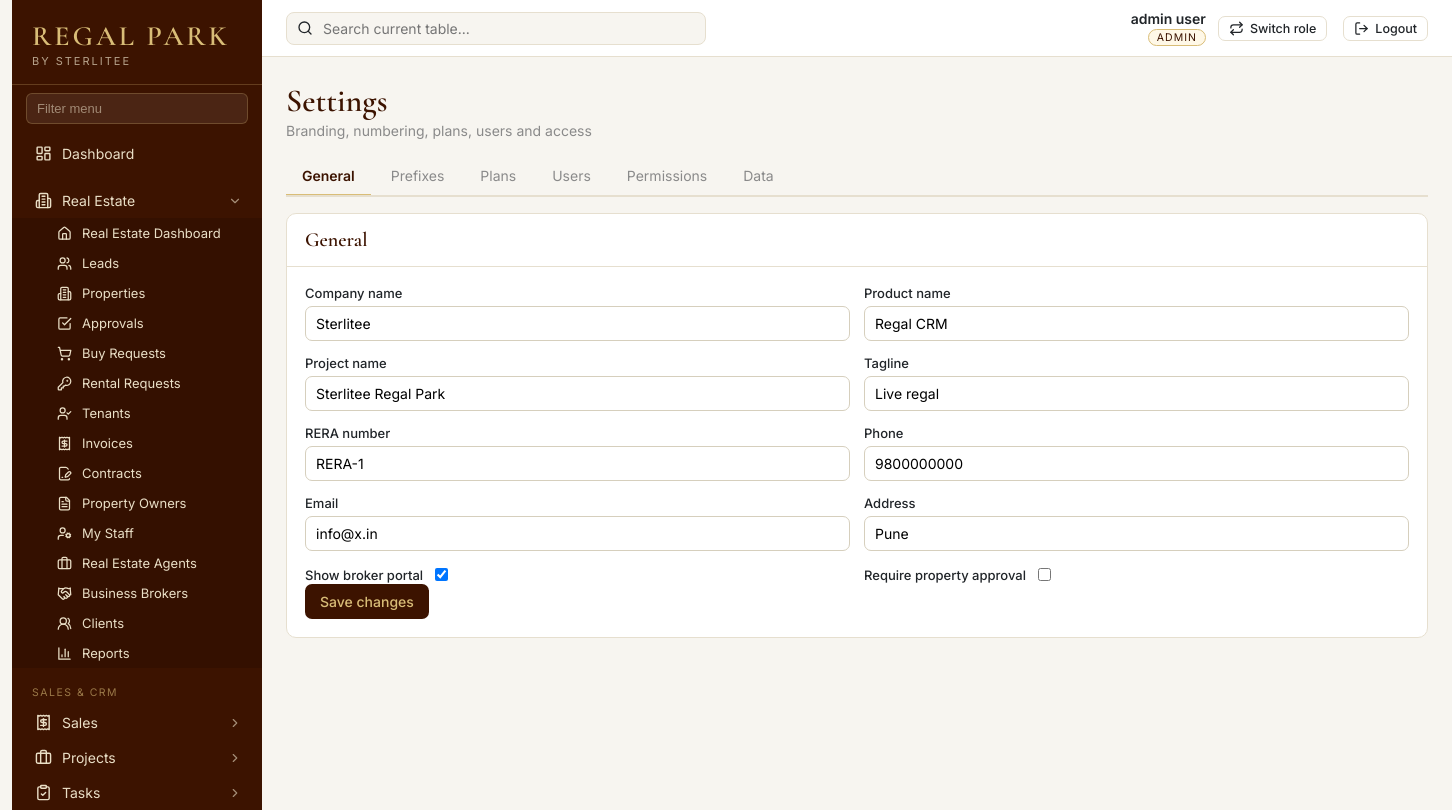
Settings tabs (PLAN §7) › Data tab renders (Reset demo data)
Expected: the button "Logout" is shown, [1343,16,1428,40]
Expected: the heading "Settings" is shown, [286,81,388,120]
What coordinates should you click on to do the following:
click the tab "Data"
I would click on:
 (759, 177)
Its box is [727,157,790,197].
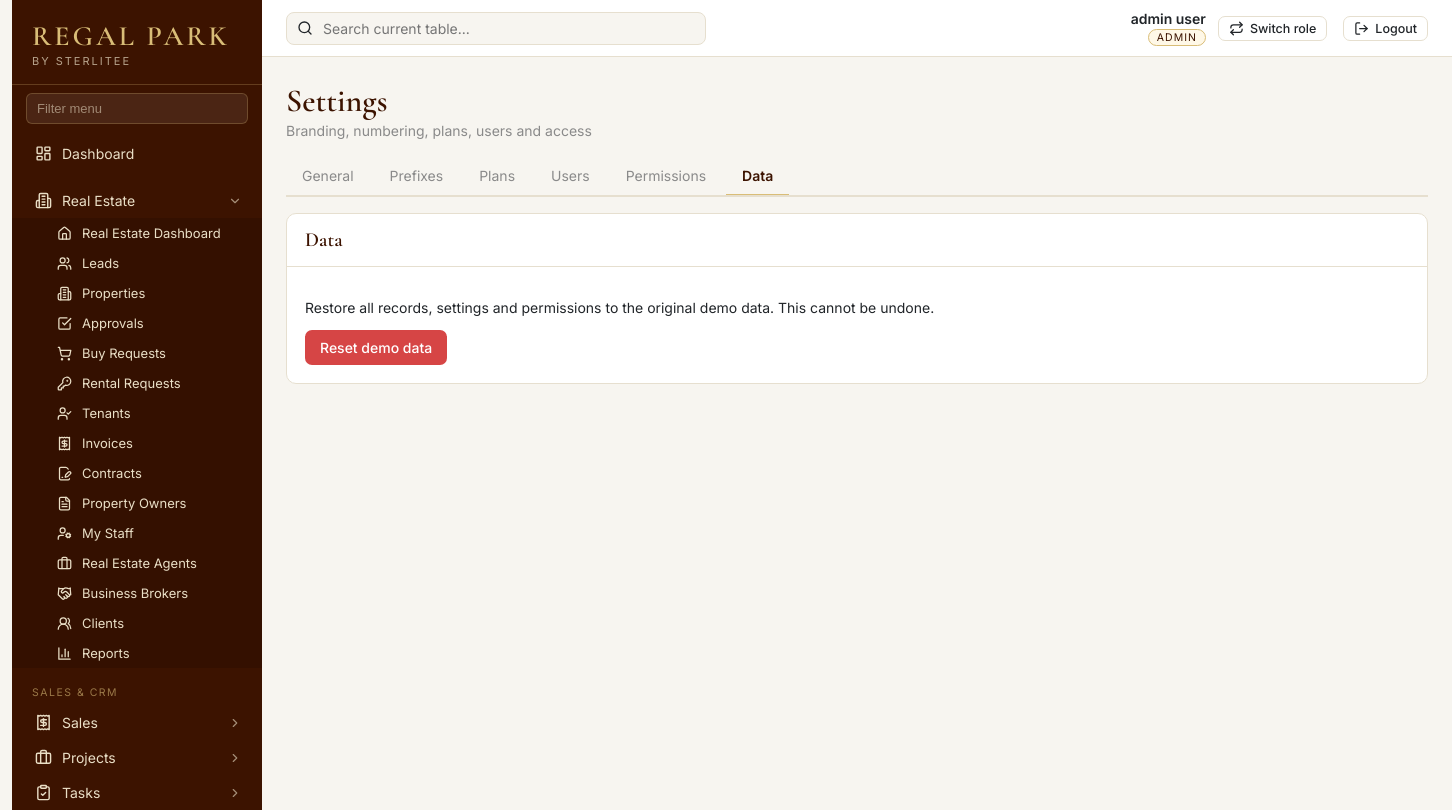
Now the button "Reset demo data" is shown, box [305,330,447,365]
